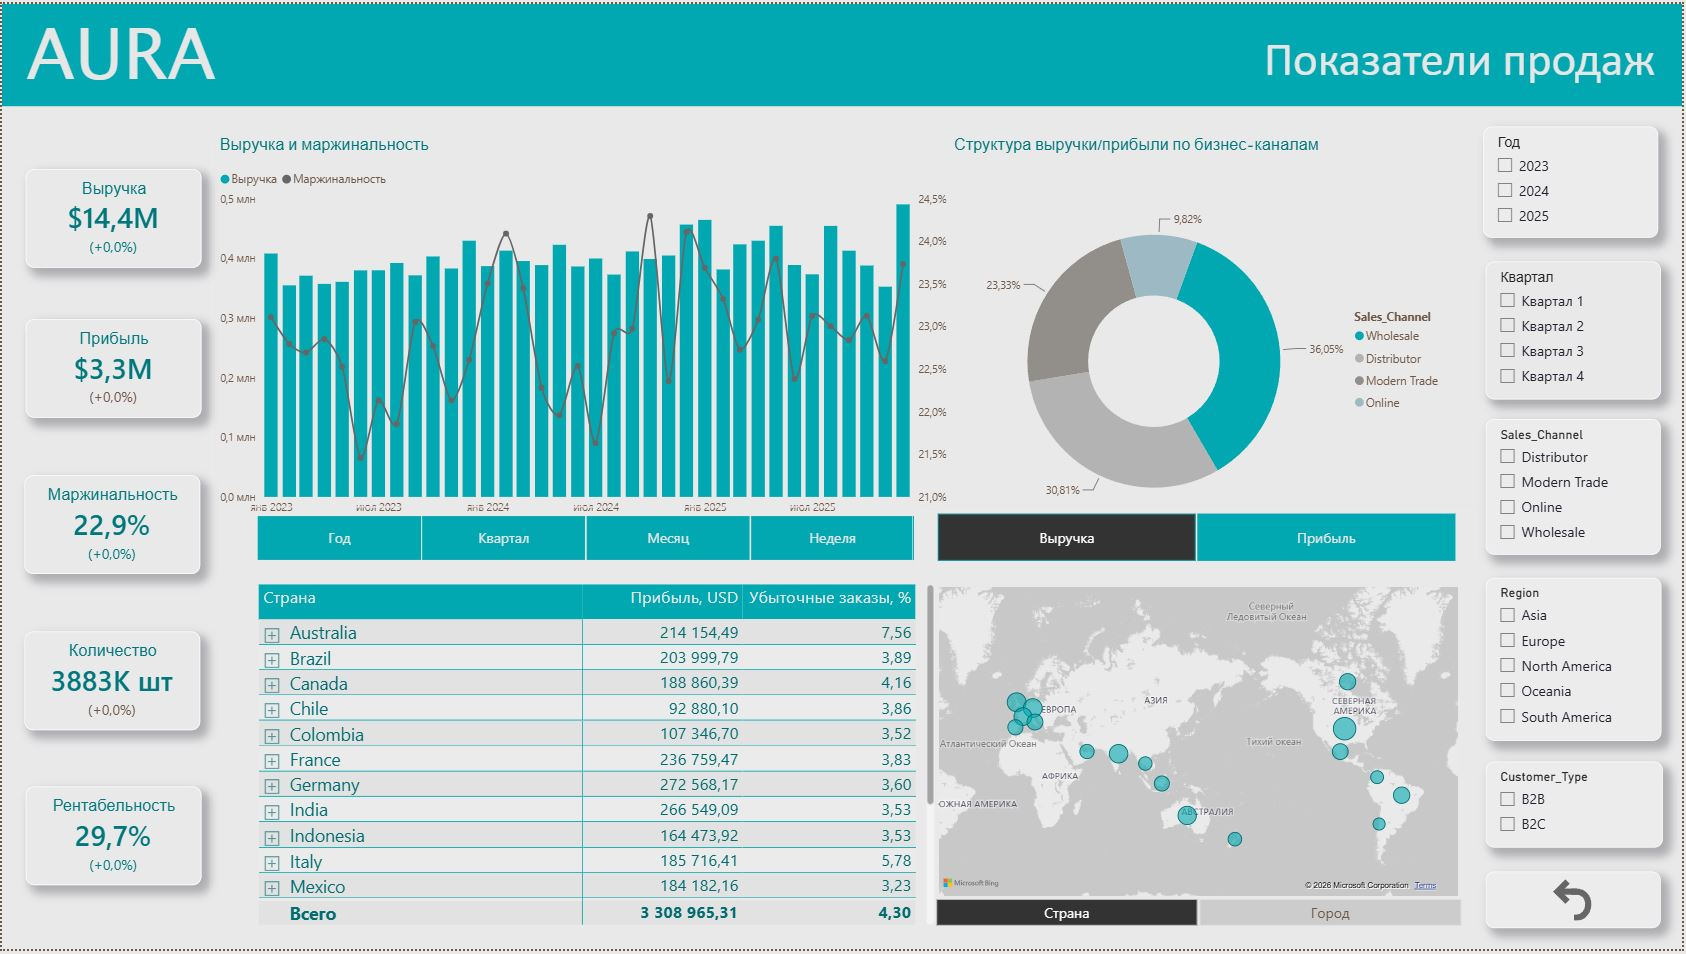

What the dashboard file says about the page in this screenshot:
{"tool":"powerbi","page":{"name":"Executive Summary","canvas":[1920,1080],"ordinal":0},"visuals":[{"type":"shape","box":[0,0,1920,117.1],"z":0,"group":"g4"},{"type":"slicer","fields":{"Values":["Календарь.Год"]},"box":[1693.3,140,200,127],"z":0},{"type":"slicer","fields":{"Values":["Dim_Geo.Region"]},"box":[1695.5,655.5,200.9,186.4],"z":1000},{"type":"slicer","fields":{"Values":["Dim_Channel.Sales_Channel"]},"box":[1695.5,474.5,200.2,155.5],"z":2000},{"type":"pivotTable","fields":{"Rows":["Dim_Geography.Country","Dim_Geography.City"],"Values":["DAX.Total Profit","DAX.Loss Making Orders %"]},"box":[288.3,658.3,781.7,398.3],"z":3000},{"type":"slicer","fields":{"Values":["Fact_Sales.Customer_Type"]},"box":[1695.5,866.4,202.2,98.2],"z":4000},{"type":"actionButton","box":[1695.5,990.9,199.6,64.5],"z":5000},{"type":"group","id":"g1","title":"Группа 1","box":[239.7,145.4,848.6,500.9],"z":6000},{"type":"slicer","fields":{"Values":["Календарь.Квартал"]},"box":[1695.5,293.6,200.4,157.3],"z":7000},{"type":"textbox","box":[1387.1,25.7,507.1,100],"z":8000,"group":"g4"},{"type":"lineStackedColumnComboChart","title":"Выручка и маржинальность","fields":{"Category":["Календарь.Начало года","Календарь.Начало квартала","Календарь.Начало месяца","Календарь.Начало недели"],"Y":["DAX.Total Revenue"],"Y2":["DAX.Profit Margin %"]},"box":[239.7,145.4,848.6,452.1],"z":8000,"group":"g1"},{"type":"group","id":"g2","title":"Группа 2","box":[1039.7,150.6,648.6,497.1],"z":8000},{"type":"donutChart","title":"Структура выручки/прибыли по бизнес-каналам","fields":{"Category":["Dim_Channel.Sales_Channel"],"Y":["DAX.Total Revenue"]},"box":[1082.4,150.6,573.5,486.3],"z":8000,"group":"g2"},{"type":"textbox","box":[22.9,17.1,258.6,135.7],"z":9000,"group":"g4"},{"type":"group","id":"g3","title":"Группа 3","box":[1041.1,662,650,398.9],"z":9000},{"type":"cardVisual","title":"Выручка","fields":{"Data":["DAX.KPI_Revenue_Value"]},"box":[27.2,189,200.4,112.5],"z":10000},{"type":"map","fields":{"Category":["Dim_Geography.Country"],"Size":["DAX.Total Revenue"]},"box":[1065.3,662,603.3,362.7],"z":10000,"group":"g3"},{"type":"cardVisual","title":"Прибыль","fields":{"Data":["DAX.KPI_Profit_Value"]},"box":[27.7,359.3,200.4,112.5],"z":11000},{"type":"cardVisual","title":"Маржинальность","fields":{"Data":["DAX.KPI_Profit Margin_Value"]},"box":[25.7,538.3,200.4,112.5],"z":12000},{"type":"cardVisual","title":"Количество","fields":{"Data":["DAX.KPI_Qty_Value"]},"box":[25.7,717.3,200.4,112.5],"z":13000},{"type":"cardVisual","title":"Рентабельность","fields":{"Data":["DAX.KPI_ROI_Value"]},"box":[27.2,893.7,200.4,112.5],"z":14000},{"type":"group","id":"g4","title":"Группа 4","box":[0,0,1920,152.9],"z":15000},{"type":"slicer","fields":{"Values":["Периоды.Периоды"]},"box":[263,574.6,807,71.6],"z":17000,"group":"g1"},{"type":"slicer","fields":{"Values":["Выручка и прибыль.Выручка и прибыль"]},"box":[1039.7,572,648.6,75.7],"z":19000,"group":"g2"},{"type":"slicer","fields":{"Values":["Географические объекты.Географические объекты"]},"box":[1041.1,1016.4,650,44.4],"z":20000,"group":"g3"}]}

Visuals, with their boxes in screenshot pixels (x1, y1, x2, y2), scaled from the page's 1920x1080 canvas onto the 1686x954 screenshot:
shape: box(0, 0, 1685, 103)
slicer - Календарь.Год: box(1487, 124, 1663, 236)
slicer - Dim_Geo.Region: box(1489, 579, 1665, 744)
slicer - Dim_Channel.Sales_Channel: box(1489, 419, 1665, 556)
pivotTable - Dim_Geography.Country x Dim_Geography.City: box(253, 581, 940, 933)
slicer - Fact_Sales.Customer_Type: box(1489, 765, 1666, 852)
actionButton: box(1489, 875, 1664, 932)
"Группа 1" group: box(210, 128, 956, 571)
slicer - Календарь.Квартал: box(1489, 259, 1665, 398)
textbox: box(1218, 23, 1663, 111)
"Выручка и маржинальность" lineStackedColumnComboChart: box(210, 128, 956, 528)
"Группа 2" group: box(913, 133, 1483, 572)
"Структура выручки/прибыли по бизнес-каналам" donutChart: box(950, 133, 1454, 563)
textbox: box(20, 15, 247, 135)
"Группа 3" group: box(914, 585, 1485, 937)
"Выручка" cardVisual: box(24, 167, 200, 266)
map - Dim_Geography.Country x DAX.Total Revenue: box(935, 585, 1465, 905)
"Прибыль" cardVisual: box(24, 317, 200, 417)
"Маржинальность" cardVisual: box(23, 475, 199, 575)
"Количество" cardVisual: box(23, 634, 199, 733)
"Рентабельность" cardVisual: box(24, 789, 200, 889)
"Группа 4" group: box(0, 0, 1685, 135)
slicer - Периоды.Периоды: box(231, 508, 940, 571)
slicer - Выручка и прибыль.Выручка и прибыль: box(913, 505, 1483, 572)
slicer - Географические объекты.Географические объекты: box(914, 898, 1485, 937)
